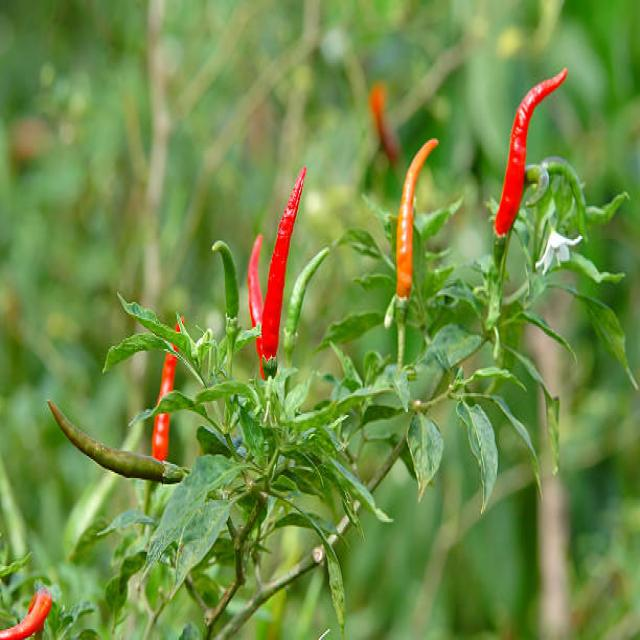Ripe: (495, 70, 567, 235), (261, 167, 306, 360), (396, 139, 438, 298), (0, 588, 51, 640), (248, 235, 264, 326), (159, 353, 178, 403), (152, 414, 170, 460)
Unripe: (48, 401, 185, 482), (284, 246, 330, 366), (211, 241, 239, 319)
